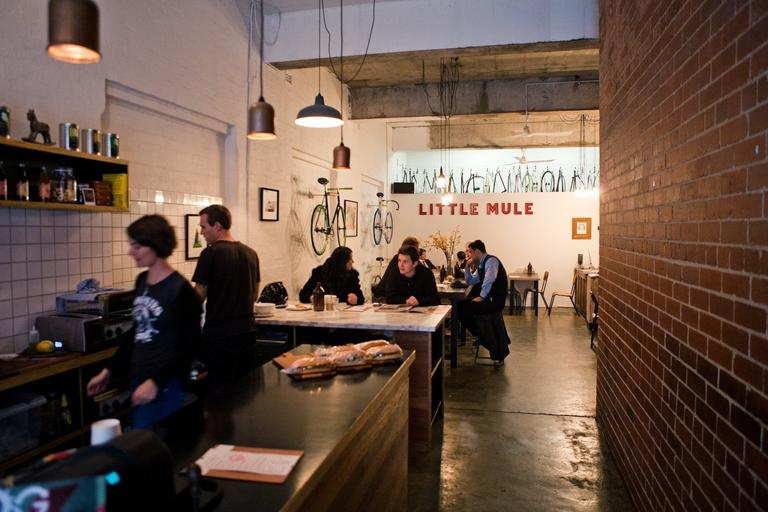non-vehicle: (308, 176, 353, 256), (371, 190, 400, 244), (369, 255, 388, 285)
